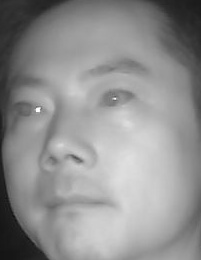eye: (94, 86, 138, 114), (10, 95, 50, 123)
mouth: (40, 182, 114, 226)
